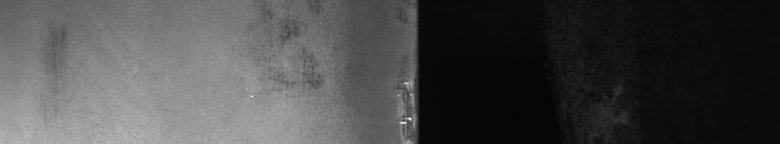hc: (250, 5, 408, 136)
